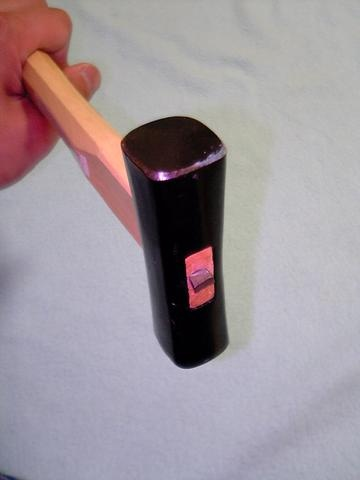hammer: (7, 4, 238, 376)
